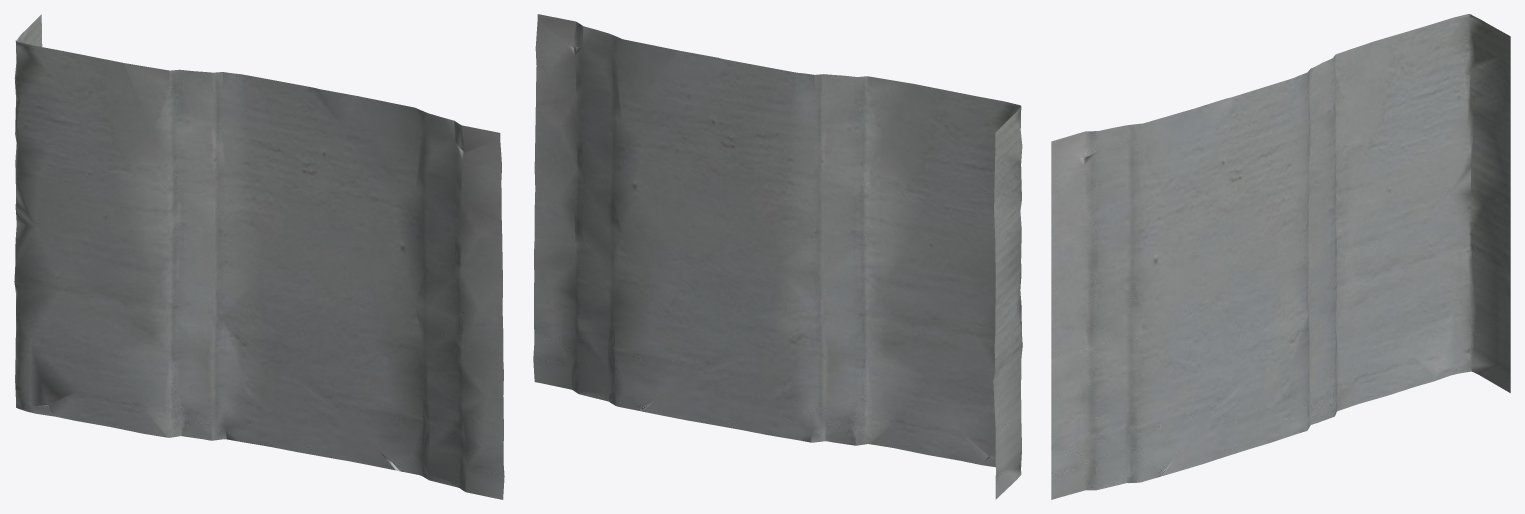
3 renders of one model, left to right at view 1: azimuth 30°, elevation 25°; view 2: azimuth 210°, elevation 25°; view 3: azimuth 270°, elevation 25°, orthographic. The views are drawn at different scales.
Bounding box in the file's own units: 2.29 × 2.93 × 3.41.
Materials: 1 (1 with a texture image).
